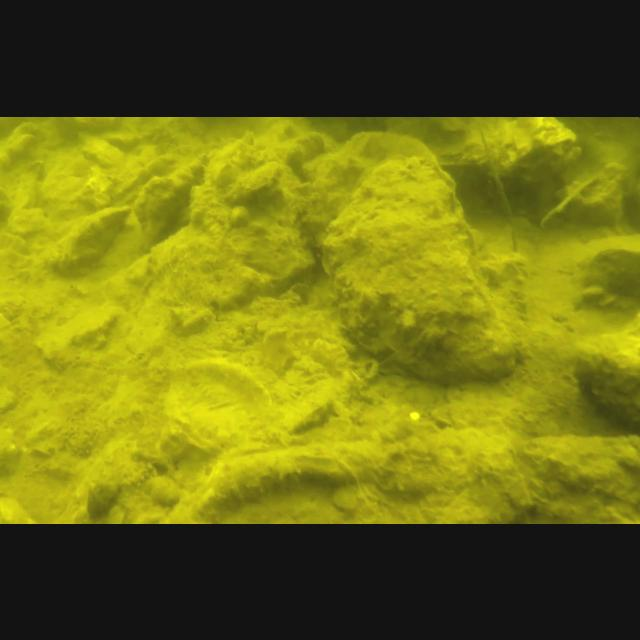Oyster-Closed: (162, 430, 640, 524), (321, 154, 517, 382), (304, 128, 436, 258), (167, 356, 271, 452), (136, 153, 208, 247), (576, 332, 640, 430), (48, 204, 132, 268), (224, 160, 282, 200)
Oyster-Open: (465, 116, 579, 182), (385, 116, 473, 166)
